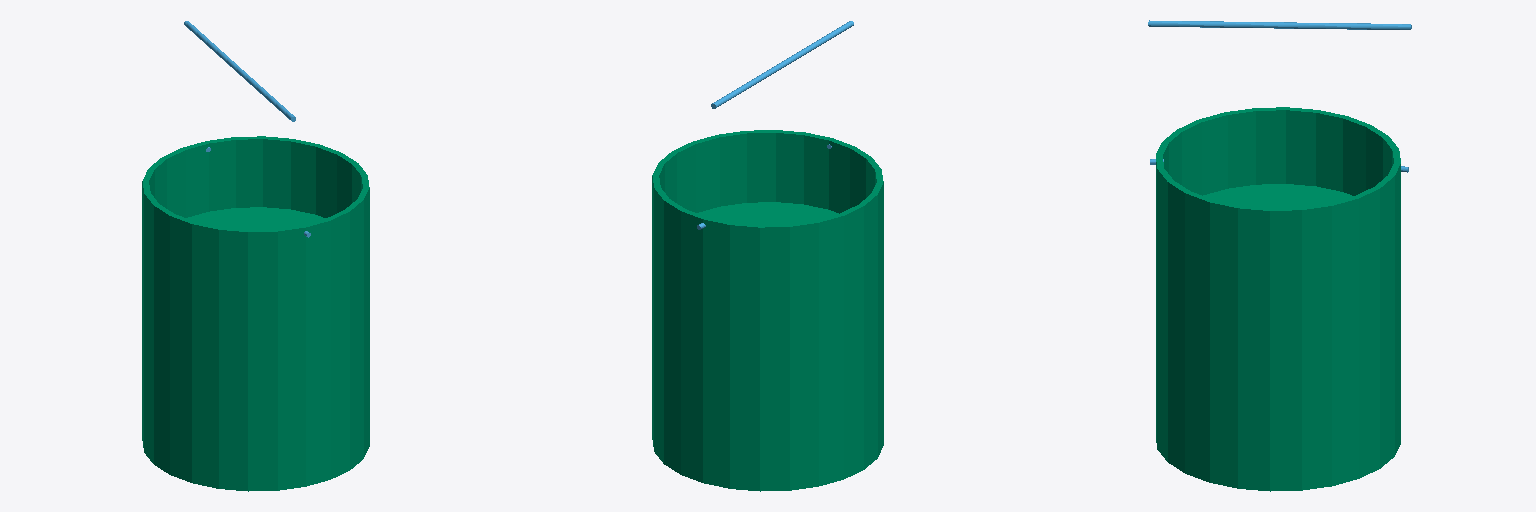
robot.urdf — partnet_67f98b83c3ede0ac41b275920fc7b6f:
<?xml version="1.0" ?>
<robot name="partnet_67f98b83c3ede0ac41b275920fc7b6f">
	<link name="base"/>
	<link name="link_0">
		<visual name="handle-1">
			<origin xyz="-0.0020023565397967007 -0.4673673194432551 0.008406455440508418"/>
			<geometry>
				<mesh filename="textured_objs/original-4.obj"/>
			</geometry>
		</visual>
		<visual name="handle-1">
			<origin xyz="-0.0020023565397967007 -0.4673673194432551 0.008406455440508418"/>
			<geometry>
				<mesh filename="textured_objs/original-6.obj"/>
			</geometry>
		</visual>
		<visual name="handle-1">
			<origin xyz="-0.0020023565397967007 -0.4673673194432551 0.008406455440508418"/>
			<geometry>
				<mesh filename="textured_objs/original-2.obj"/>
			</geometry>
		</visual>
		<visual name="handle-1">
			<origin xyz="-0.0020023565397967007 -0.4673673194432551 0.008406455440508418"/>
			<geometry>
				<mesh filename="textured_objs/original-5.obj"/>
			</geometry>
		</visual>
		<visual name="handle-1">
			<origin xyz="-0.0020023565397967007 -0.4673673194432551 0.008406455440508418"/>
			<geometry>
				<mesh filename="textured_objs/original-3.obj"/>
			</geometry>
		</visual>
		<collision>
			<origin xyz="-0.0020023565397967007 -0.4673673194432551 0.008406455440508418"/>
			<geometry>
				<mesh filename="textured_objs/original-4.obj"/>
			</geometry>
		</collision>
		<collision>
			<origin xyz="-0.0020023565397967007 -0.4673673194432551 0.008406455440508418"/>
			<geometry>
				<mesh filename="textured_objs/original-6.obj"/>
			</geometry>
		</collision>
		<collision>
			<origin xyz="-0.0020023565397967007 -0.4673673194432551 0.008406455440508418"/>
			<geometry>
				<mesh filename="textured_objs/original-2.obj"/>
			</geometry>
		</collision>
		<collision>
			<origin xyz="-0.0020023565397967007 -0.4673673194432551 0.008406455440508418"/>
			<geometry>
				<mesh filename="textured_objs/original-5.obj"/>
			</geometry>
		</collision>
		<collision>
			<origin xyz="-0.0020023565397967007 -0.4673673194432551 0.008406455440508418"/>
			<geometry>
				<mesh filename="textured_objs/original-3.obj"/>
			</geometry>
		</collision>
	</link>
	<joint name="joint_0" type="revolute">
		<origin xyz="0.0020023565397967007 0.4673673194432551 -0.008406455440508418"/>
		<axis xyz="1 0 0.07"/>
		<child link="link_0"/>
		<parent link="link_1"/>
		<limit lower="-2.236813969355932" upper="1.9666370011472105"/>
	</joint>
	<link name="link_1">
		<visual name="base_body-2">
			<origin xyz="0 0 0"/>
			<geometry>
				<mesh filename="textured_objs/original-1.obj"/>
			</geometry>
		</visual>
		<collision>
			<origin xyz="0 0 0"/>
			<geometry>
				<mesh filename="textured_objs/original-1.obj"/>
			</geometry>
		</collision>
	</link>
	<joint name="joint_1" type="fixed">
		<origin rpy="1.570796326794897 0 -1.570796326794897" xyz="0 0 0"/>
		<child link="link_1"/>
		<parent link="base"/>
	</joint>
</robot>

--- Facts derived from the render (not from the file) ---
Views: 3 orthographic renders of the robot side by side, from view 1: azimuth 30°, elevation 25°; view 2: azimuth 150°, elevation 25°; view 3: azimuth 270°, elevation 25°.
Robot: partnet_67f98b83c3ede0ac41b275920fc7b6f — 3 links, 2 joints (1 revolute, 1 fixed); root link base; default pose: every joint at zero.
Visible links, largest first — view 1: link_1, link_0; view 2: link_1, link_0; view 3: link_1, link_0.
Boxes of the visible links, x1,y1,x2,y2 form: link_1: [142, 136, 369, 491]; link_0: [184, 21, 310, 237]; link_1: [652, 130, 883, 491]; link_0: [697, 21, 853, 229]; link_1: [1156, 107, 1400, 491]; link_0: [1148, 20, 1411, 172].
Size in the robot's own frame: 0.7569 by 0.8105 by 1.4 metres.
4 mesh visuals loaded from 6 distinct referenced files (4 OBJ); not drawn: 2 (reference not matched to a file when rendering).
